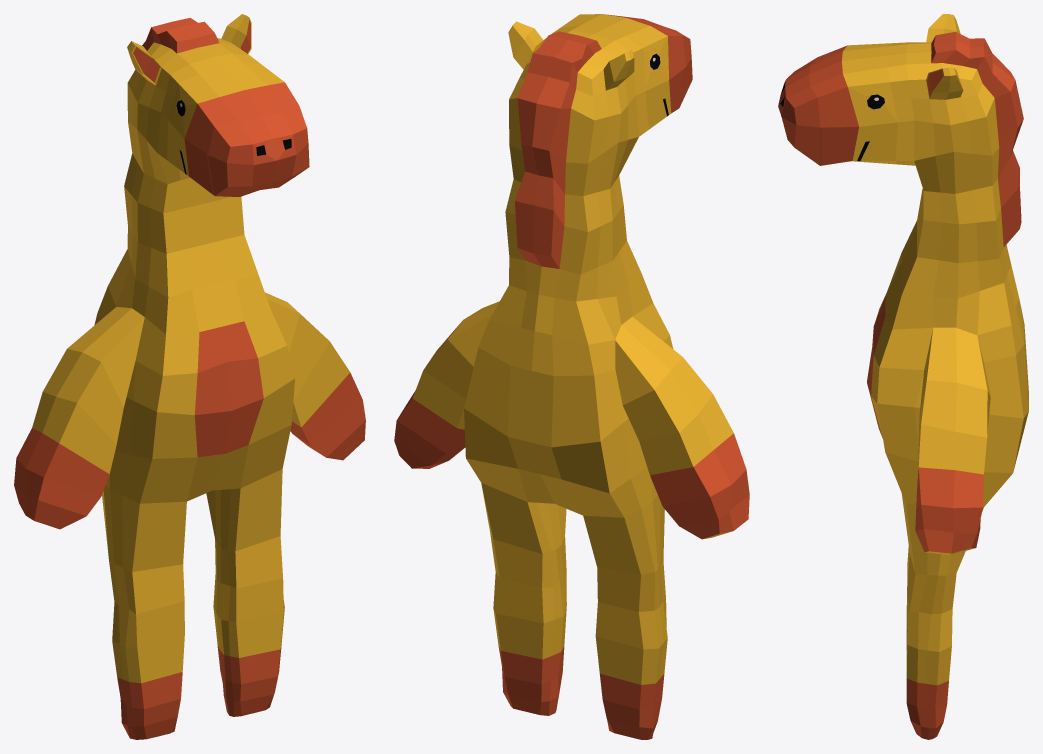
Rendered from giraffe.glb.
The picture shows the model from 3 angles, left to right: view 1: azimuth 30°, elevation 25°; view 2: azimuth 150°, elevation 25°; view 3: azimuth 270°, elevation 25°; orthographic projection. The views are drawn at different scales.
Visible parts, largest first — view 1: Giraffe; view 2: Giraffe; view 3: Giraffe.
Part boxes in pixels (x1,y1,x2,y2): Giraffe: [14, 14, 365, 739]; Giraffe: [394, 14, 749, 739]; Giraffe: [778, 14, 1028, 739].
Size of the model in its own units: 1.5 by 2.97 by 1.01.
